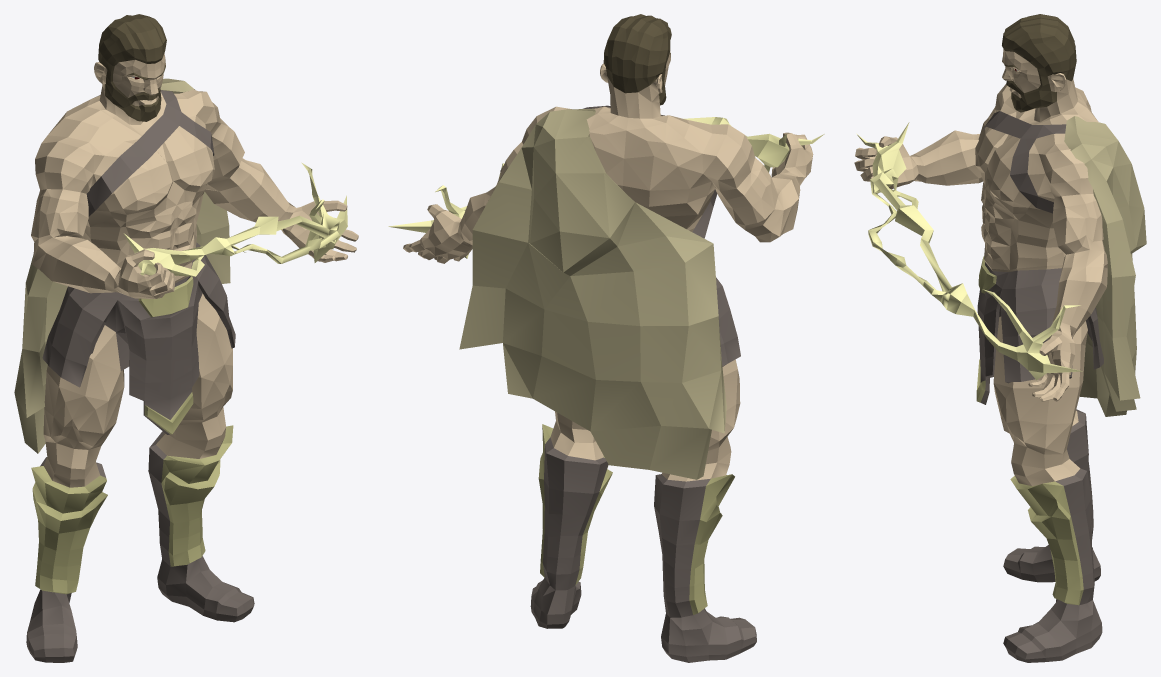
File: Zeus.fbx
3 views of the same model, side by side, from view 1: azimuth 30°, elevation 25°; view 2: azimuth 150°, elevation 25°; view 3: azimuth 270°, elevation 25° (orthographic). The views are drawn at different scales.
Parts seen in each view (by area): view 1: Zeus.obj; view 2: Zeus.obj; view 3: Zeus.obj.
Boxes of the visible parts, x1,y1,x2,y2 form: Zeus.obj: [14, 14, 358, 662]; Zeus.obj: [388, 14, 824, 662]; Zeus.obj: [854, 14, 1146, 662].
Size of the model in its own units: 179 by 296 by 132.
